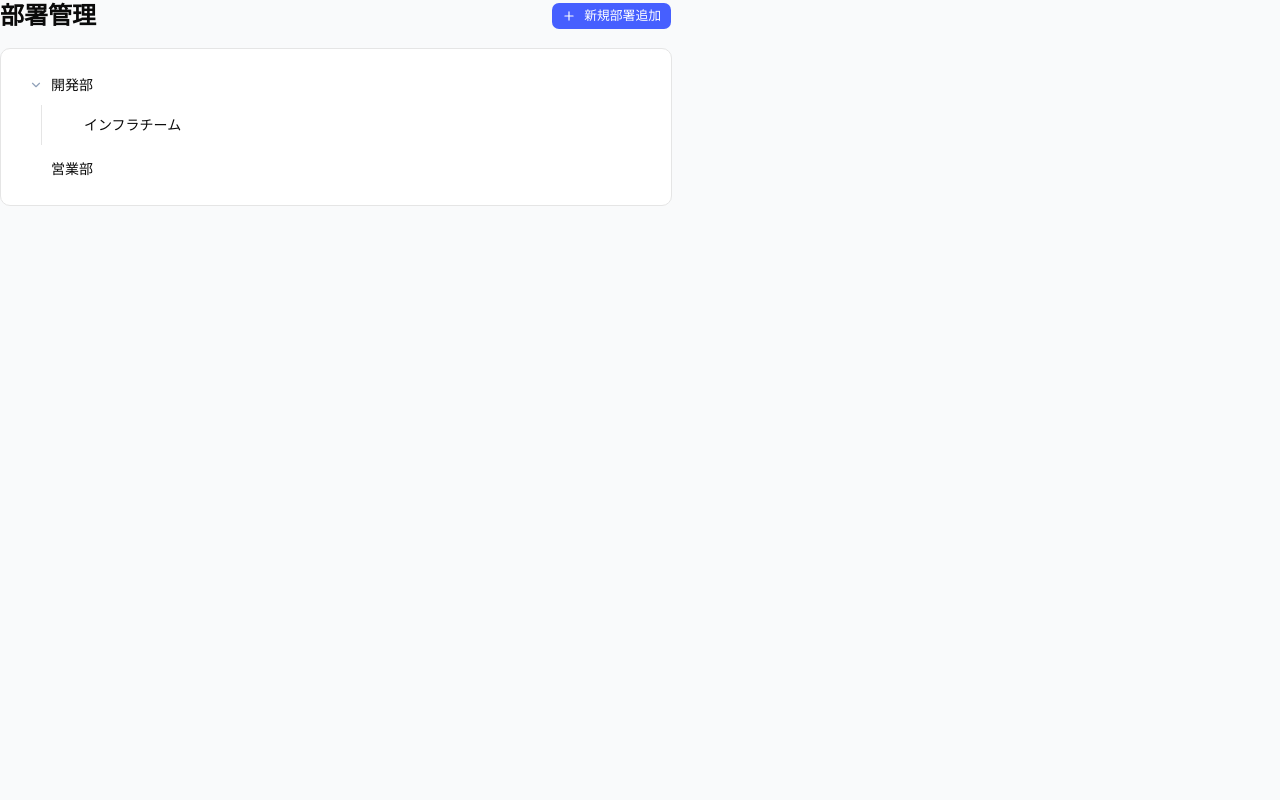
it: 部署名をクリックすると編集フォームが開く
Step 1. Click the button "開発部" → (72, 85), box [51,75,611,95]
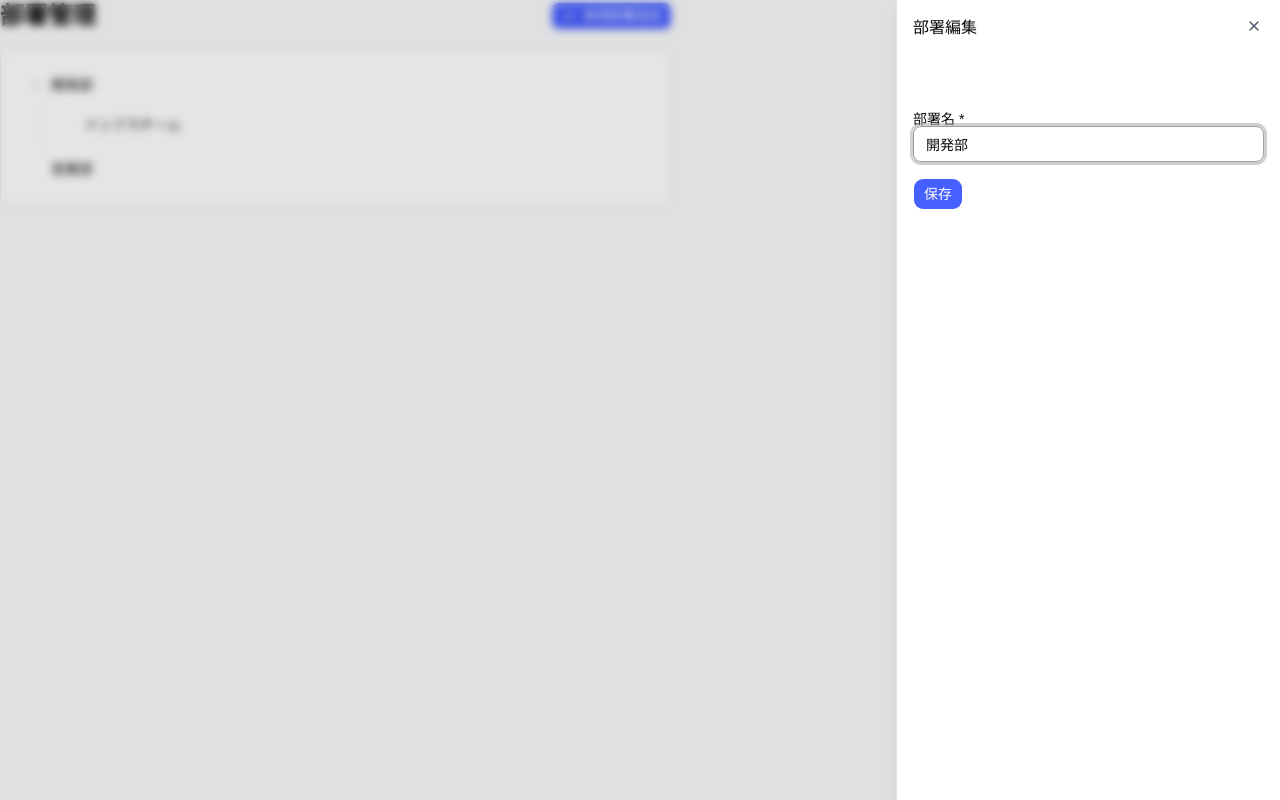
Result: the field showing "開発部" is shown at [913,126,1264,162]
